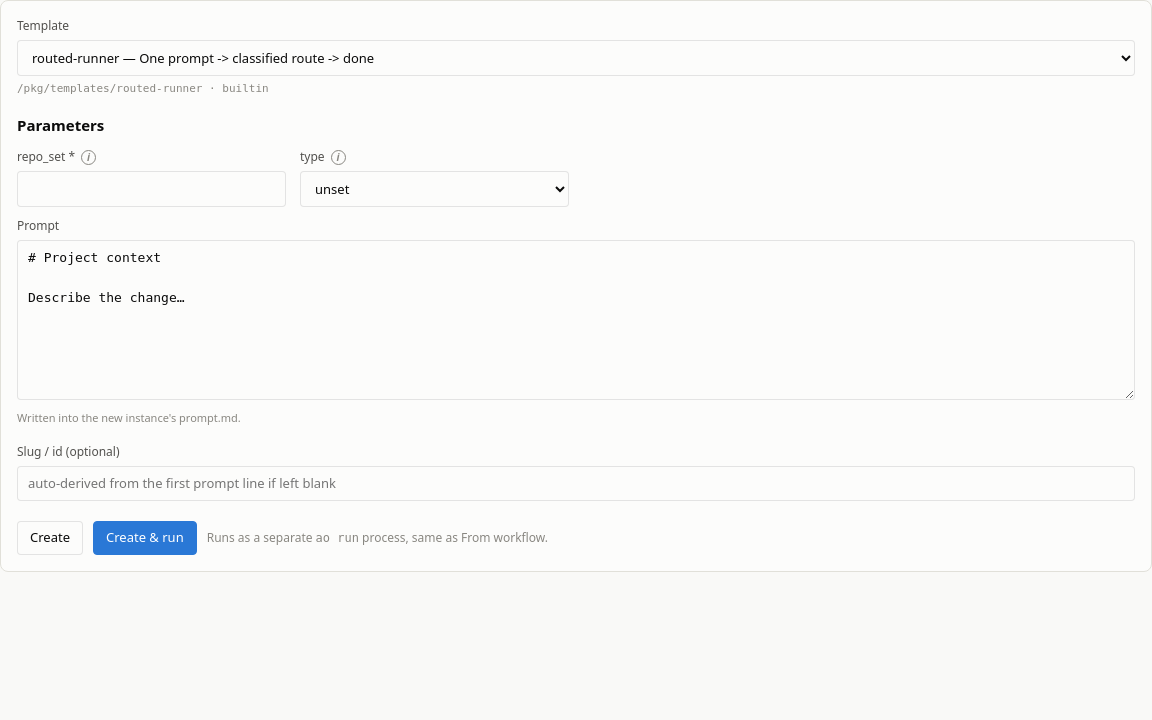
Test: TemplateLaunch › Create (start:false) posts start:false and shows the created instance paths
Type "main" into the field labelled "repo_set *" at (152,189), box [17,171,286,206]
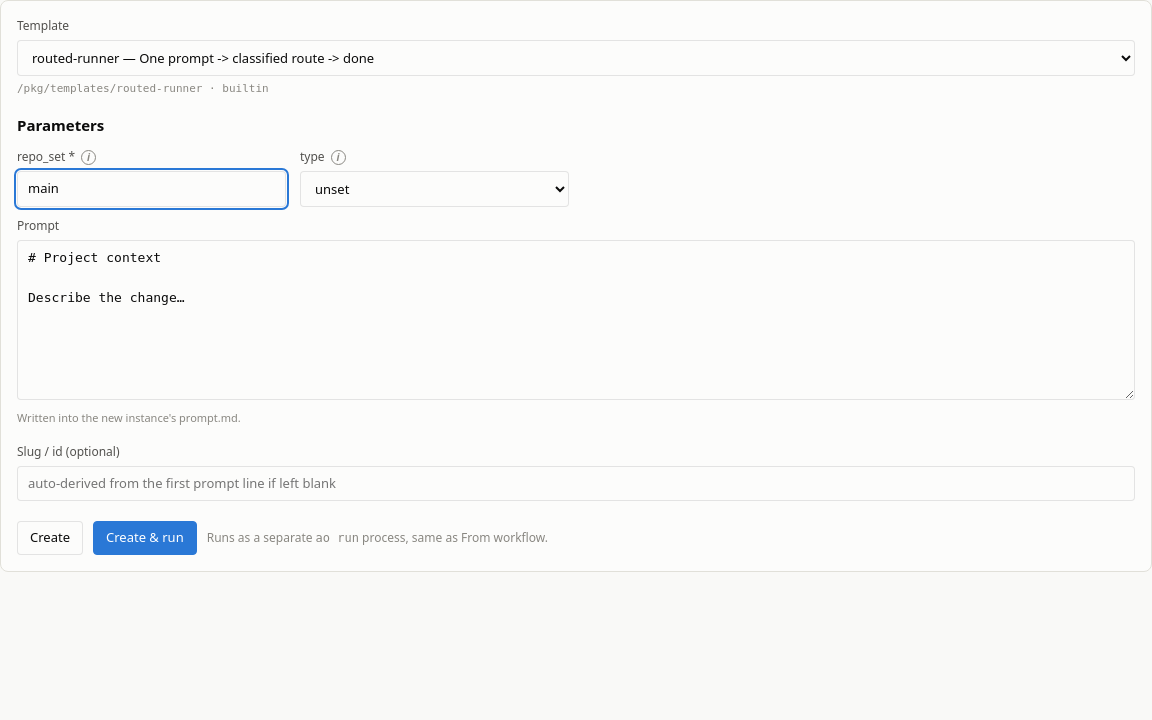
Click the button "Create" at (50,538), box [17,521,83,554]
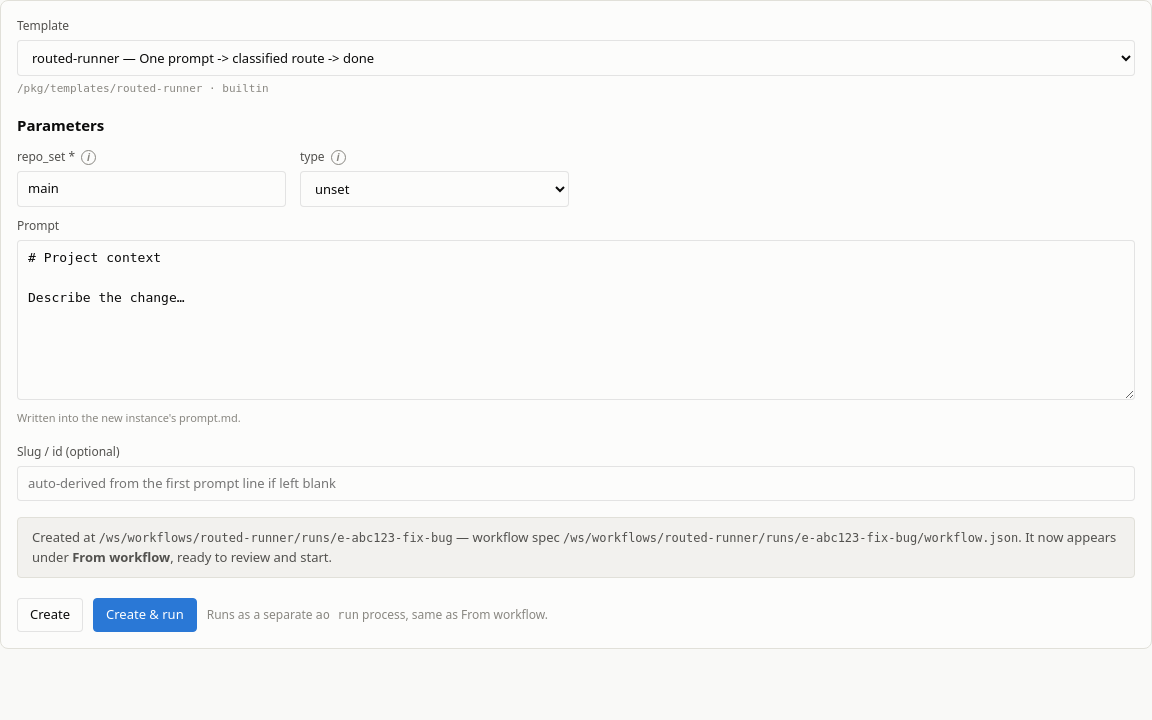
Now the text "From workflow" is shown, box [72,548,170,566]
